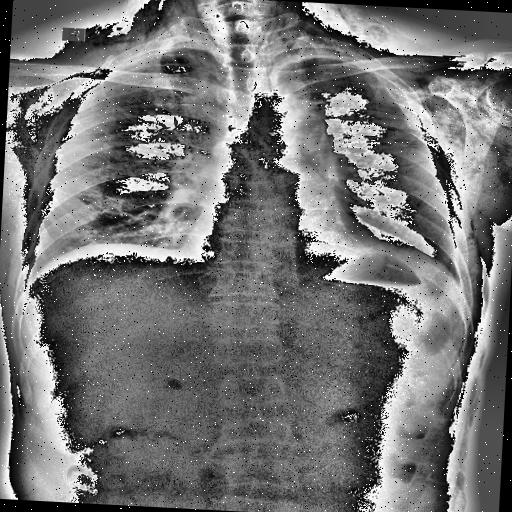0- Aortic enlargement: (244, 91, 308, 139)
11- Pleural thickening: (274, 44, 364, 64), (114, 46, 184, 62)
13- Pulmonary fibrosis: (304, 112, 386, 216)
7- Lung Opacity: (38, 74, 461, 273), (274, 44, 364, 64)
9- Other lesion: (262, 1, 480, 275), (10, 0, 209, 251), (84, 0, 408, 59), (464, 219, 510, 339), (458, 219, 503, 333), (296, 2, 398, 50), (87, 0, 175, 51), (8, 356, 30, 420), (0, 244, 15, 288), (466, 224, 474, 232)
